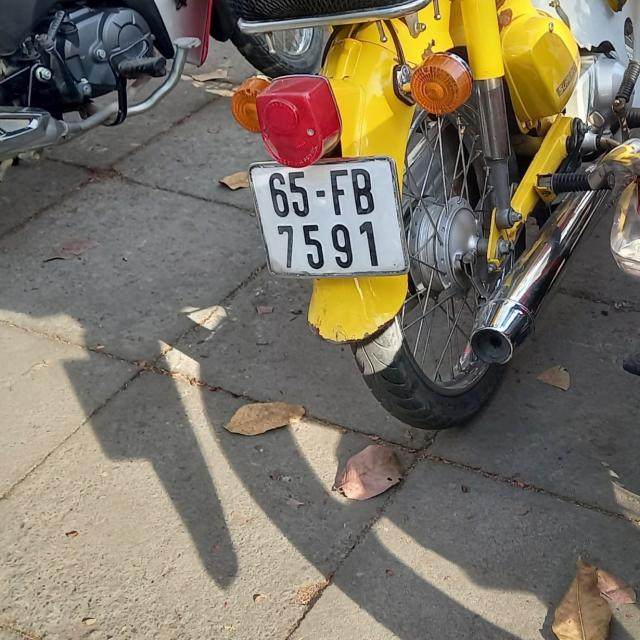1: (359, 220, 381, 265)
5: (286, 171, 312, 217), (303, 223, 326, 272), (329, 169, 349, 217)
6: (268, 173, 290, 216)
7: (276, 224, 298, 269)
9: (332, 223, 354, 270)
B: (350, 168, 375, 215)
